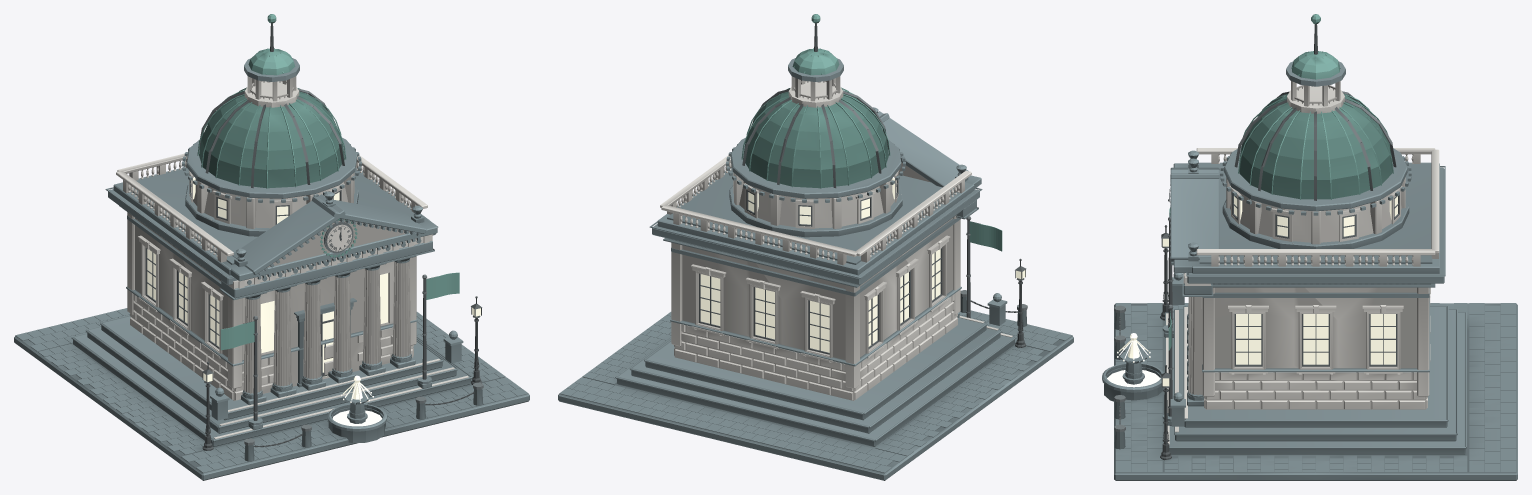
File: town-hall-near.glb
3 renders of one model, left to right at view 1: azimuth 30°, elevation 25°; view 2: azimuth 150°, elevation 25°; view 3: azimuth 270°, elevation 25°, orthographic. The views are drawn at different scales.
Visible parts, largest first — view 1: TownHallNear, TownHallNear.Flag.0, TownHallNear.Flag.1; view 2: TownHallNear, TownHallNear.Flag.0; view 3: TownHallNear.
Boxes of the visible parts, x1,y1,x2,y2 form: TownHallNear: [14, 14, 529, 480]; TownHallNear.Flag.0: [220, 321, 254, 350]; TownHallNear.Flag.1: [426, 272, 459, 299]; TownHallNear: [558, 14, 1073, 480]; TownHallNear.Flag.0: [969, 221, 1002, 251]; TownHallNear: [1102, 14, 1517, 480].
Size of the model in its own units: 13.2 by 13.77 by 13.59.
